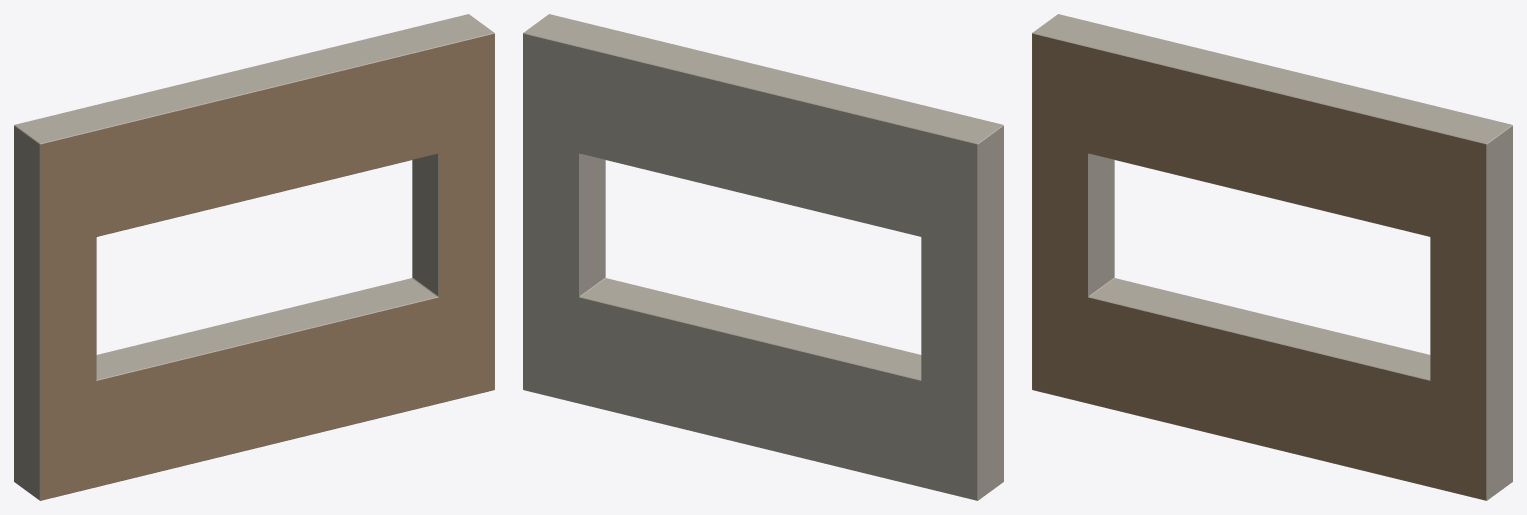
File: arch_wall_ext_window_wide_w400_h300.glb
3 renders of one model, left to right at view 1: azimuth 30°, elevation 25°; view 2: azimuth 150°, elevation 25°; view 3: azimuth 330°, elevation 25°, orthographic.
Parts seen in each view (by area): view 1: Wall; view 2: Wall; view 3: Wall.
Part boxes in pixels (<box>): Wall: <box>14,14,494,500</box>; Wall: <box>523,14,1003,500</box>; Wall: <box>1032,14,1512,500</box>.
Size of what is drawn, in the model's own units: 4 by 3 by 0.4.
